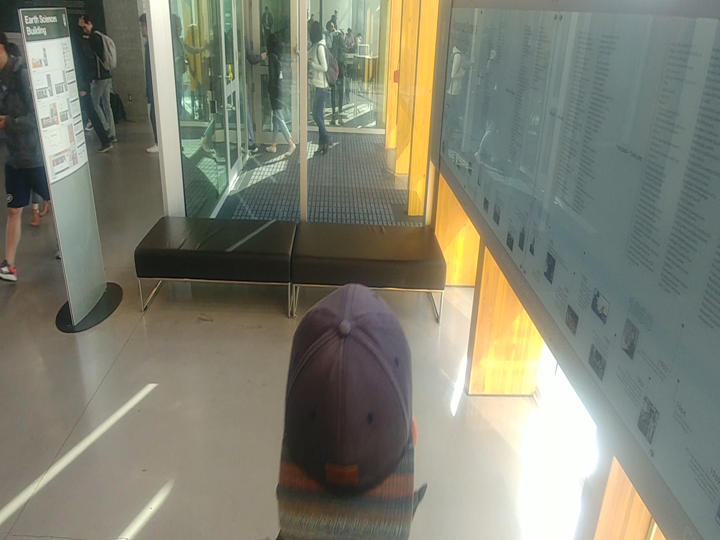face: (306, 14, 329, 50), (73, 10, 101, 39), (261, 31, 283, 59)
human: (73, 8, 126, 155), (306, 10, 343, 165), (261, 26, 298, 164)
